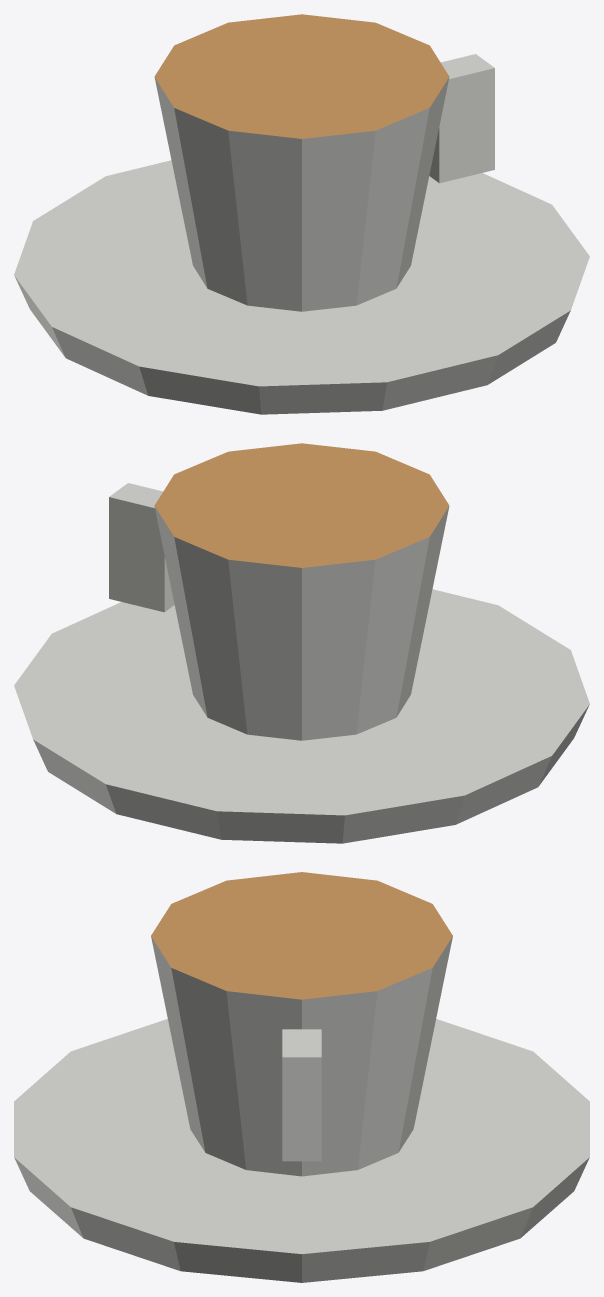
Rendered from coffee_cup.obj.
3 views of the same model, one above another, from view 1: azimuth 30°, elevation 25°; view 2: azimuth 150°, elevation 25°; view 3: azimuth 270°, elevation 25° (orthographic). The views are drawn at different scales.
Visible parts, largest first — view 1: coffee_cup; view 2: coffee_cup; view 3: coffee_cup.
Part boxes in pixels (left/top/right/bottom): coffee_cup: left=14, top=14, right=589, bottom=414; coffee_cup: left=14, top=443, right=589, bottom=843; coffee_cup: left=14, top=872, right=589, bottom=1282.
Bounding box in the file's own units: 0.18 × 0.077 × 0.1754.
